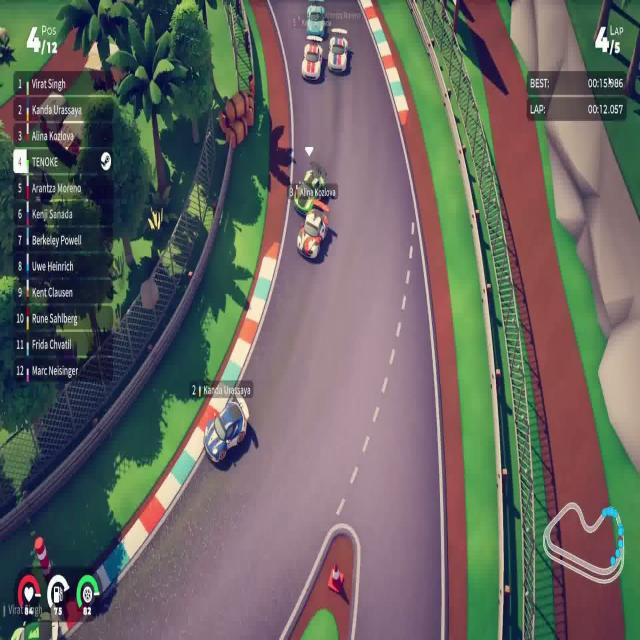car: (203, 392, 250, 464), (292, 158, 328, 212), (296, 207, 329, 261), (327, 29, 349, 74)
